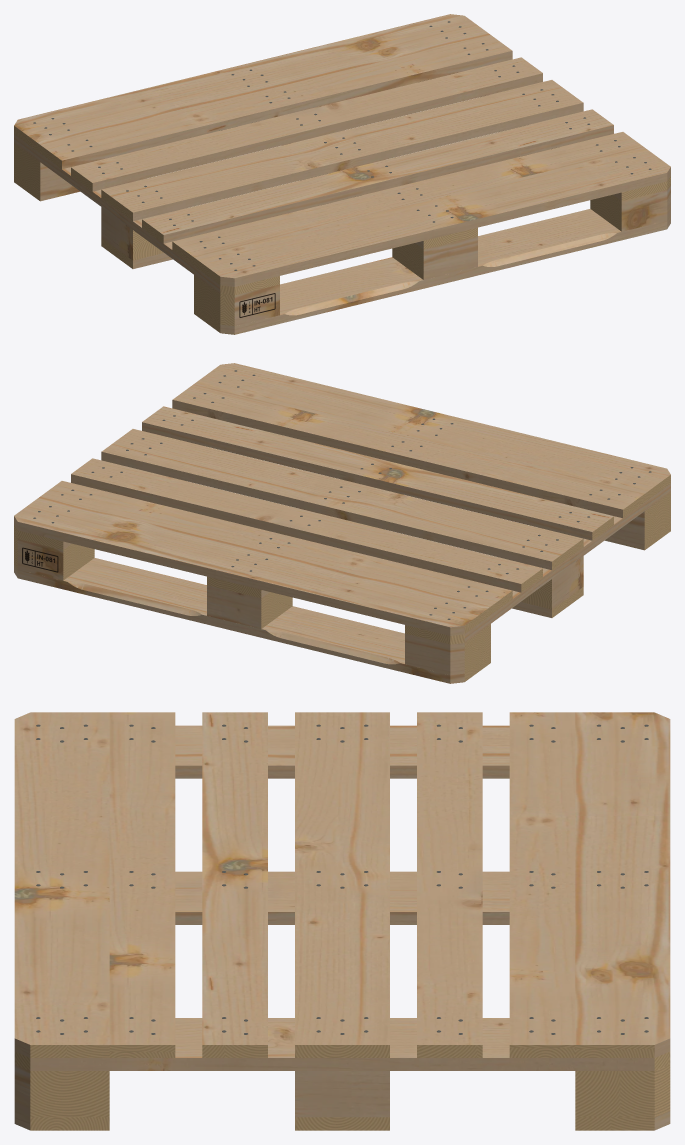
The model's file is euro-industrial-pallet-1000x1200.glb.
3 renders of one model, top to bottom at view 1: azimuth 30°, elevation 25°; view 2: azimuth 150°, elevation 25°; view 3: azimuth 270°, elevation 25°, orthographic. The views are drawn at different scales.
Parts seen in each view (by area): view 1: euro-industrial-pallet-1000x1200; view 2: euro-industrial-pallet-1000x1200; view 3: euro-industrial-pallet-1000x1200.
Boxes of the visible parts, <box> form: euro-industrial-pallet-1000x1200: <box>14,14,670,334</box>; euro-industrial-pallet-1000x1200: <box>14,363,670,683</box>; euro-industrial-pallet-1000x1200: <box>14,712,670,1130</box>.
Size of the model in its own units: 1.2 by 0.145 by 1.
Materials: 4 (3 with a texture image).
